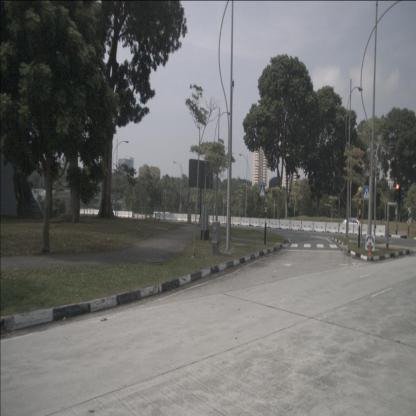cone: (367, 236, 374, 255)
